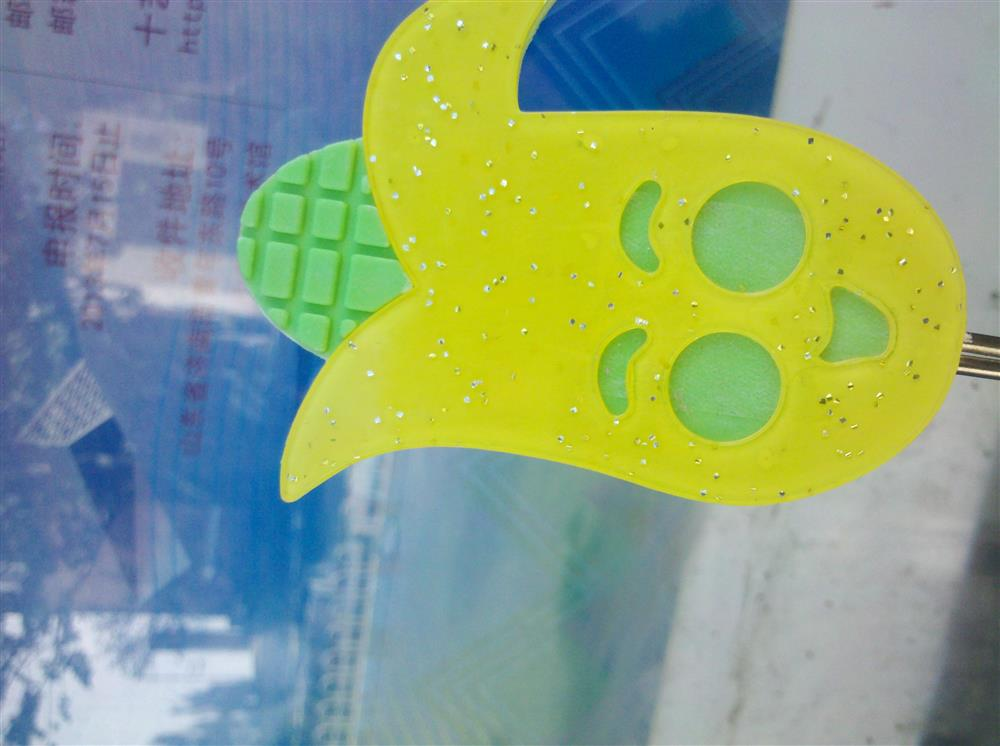Corn_Shape_Pothook: (236, 0, 964, 505)
